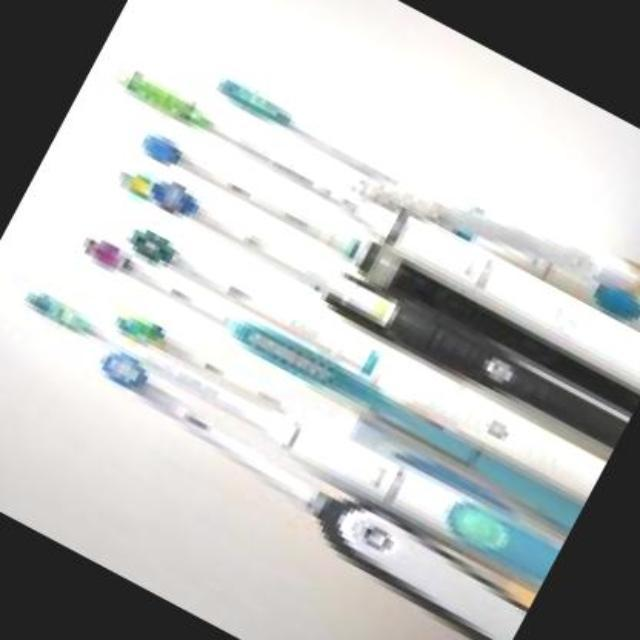toothbrush: (1, 1, 453, 556)
